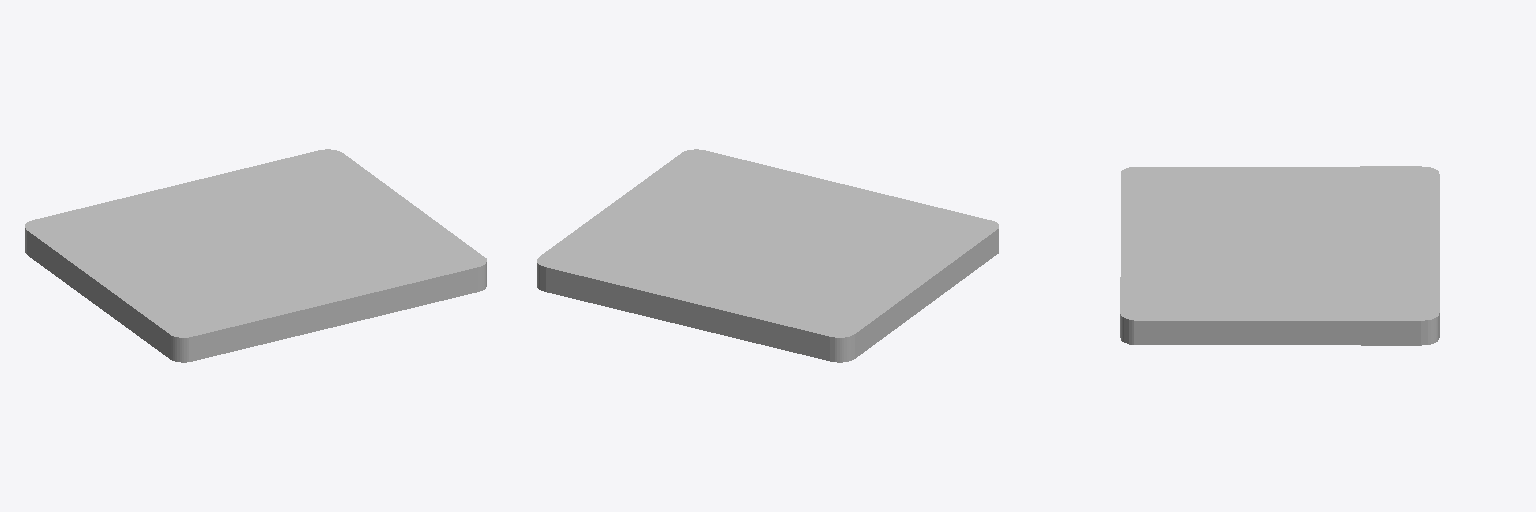
File: original-30.obj
3 renders of one model, left to right at view 1: azimuth 30°, elevation 25°; view 2: azimuth 150°, elevation 25°; view 3: azimuth 270°, elevation 25°, orthographic.
Visible parts, largest first — view 1: mesh29/mesh29-geometry#mesh29-geometry; view 2: mesh29/mesh29-geometry#mesh29-geometry; view 3: mesh29/mesh29-geometry#mesh29-geometry.
Boxes of the visible parts, x1=… form: mesh29/mesh29-geometry#mesh29-geometry: x1=25, y1=149, x2=486, y2=362; mesh29/mesh29-geometry#mesh29-geometry: x1=537, y1=149, x2=998, y2=362; mesh29/mesh29-geometry#mesh29-geometry: x1=1120, y1=166, x2=1439, y2=345.
Bounding box in the file's own units: 0.0744 × 0.0056 × 0.065.